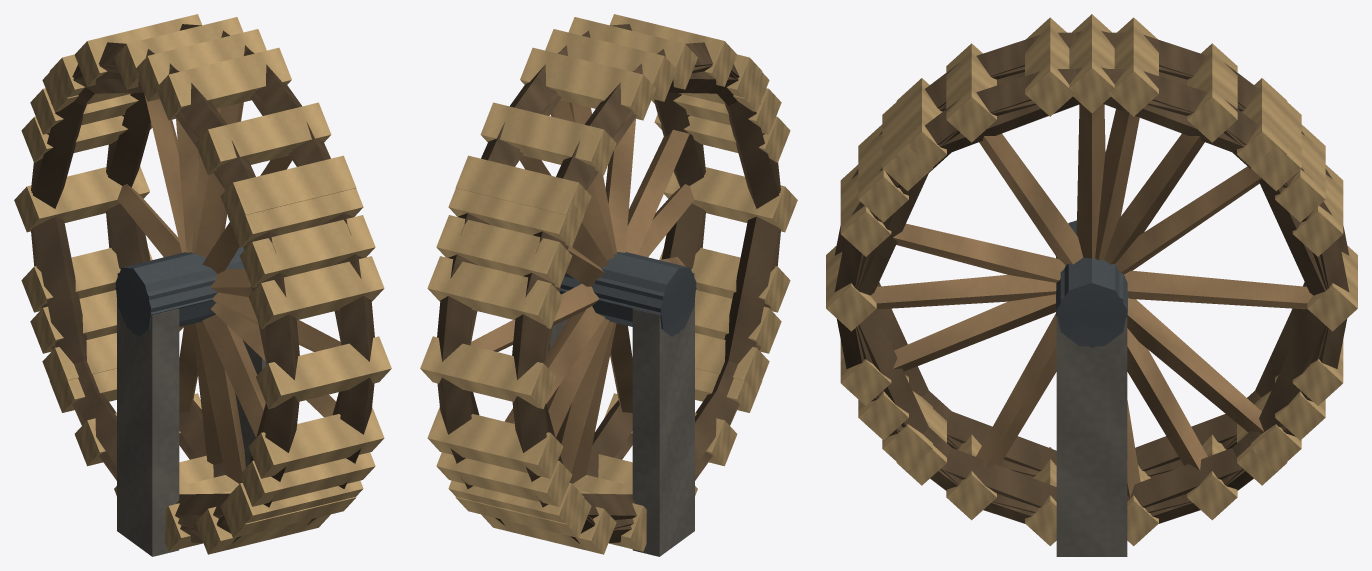
The model's file is MillWheel.fbx.
3 views of the same model, side by side, from view 1: azimuth 30°, elevation 25°; view 2: azimuth 150°, elevation 25°; view 3: azimuth 270°, elevation 25° (orthographic).
Parts seen in each view (by area): view 1: MillWheelDetail0, MillWheelDetail1, MillWheelDetail2; view 2: MillWheelDetail0, MillWheelDetail1, MillWheelDetail2; view 3: MillWheelDetail0, MillWheelDetail1, MillWheelDetail2.
Part boxes in pixels (bbox=[...]): MillWheelDetail0: bbox=[14, 14, 391, 556]; MillWheelDetail1: bbox=[30, 29, 375, 556]; MillWheelDetail2: bbox=[32, 54, 356, 537]; MillWheelDetail0: bbox=[420, 14, 797, 556]; MillWheelDetail1: bbox=[436, 29, 781, 556]; MillWheelDetail2: bbox=[455, 54, 779, 537]; MillWheelDetail0: bbox=[826, 17, 1357, 556]; MillWheelDetail1: bbox=[856, 14, 1327, 556]; MillWheelDetail2: bbox=[858, 72, 1325, 507].
Bounding box in the file's own units: 109 × 363 × 362.
1 material, 1 textured.
